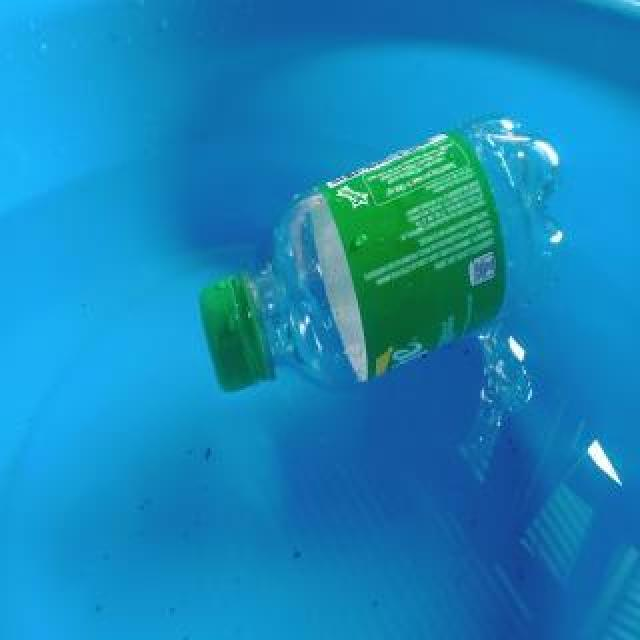bottle: (193, 110, 571, 396)
